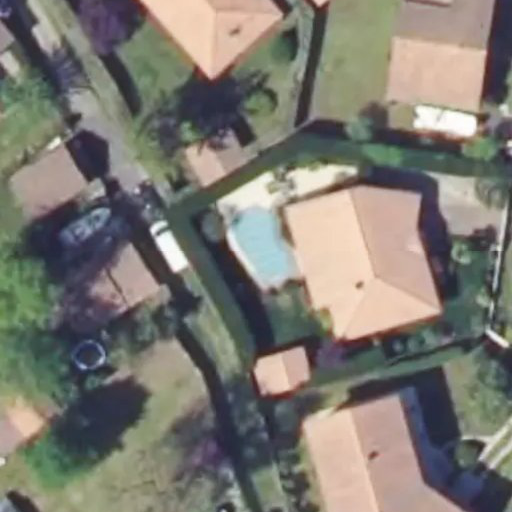pool: (221, 220, 294, 261)
